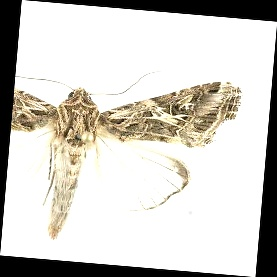Spodoptera litura: (9, 68, 238, 248)
